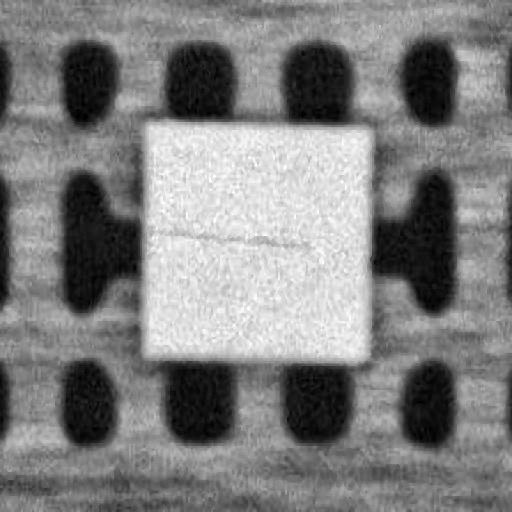DIE_CRACK: (222, 152, 462, 163)
